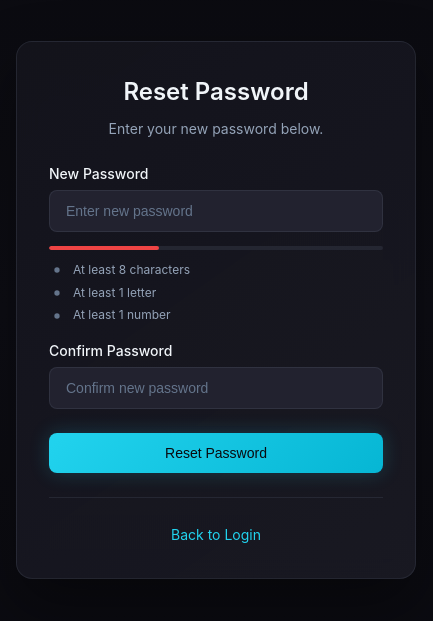
ResetPassword Page › should validate passwords must match
# Enter mismatched passwords
Type "ValidPassword123" into the password field with test id "new-password-input". click: (216, 211)
box: [49, 190, 383, 232]
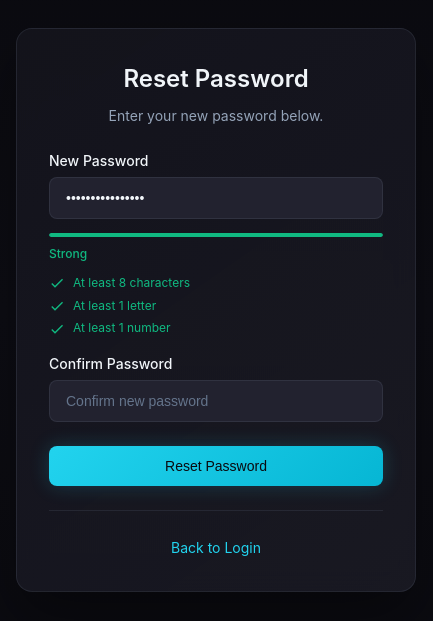
Type "DifferentPassword456" into the password field with test id "confirm-password-input". click: (216, 401)
box: [49, 380, 383, 422]
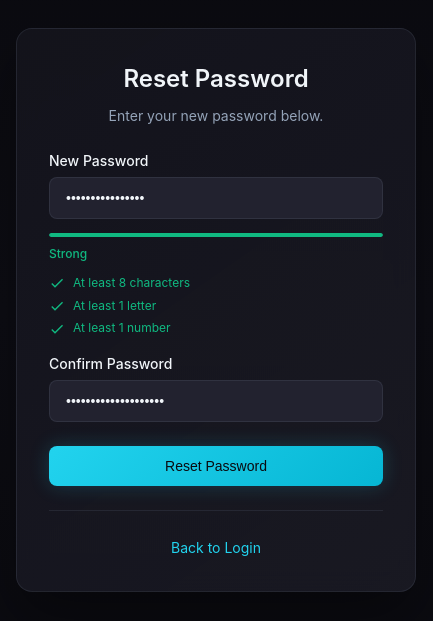
# Submit form
Click the button with test id "reset-password-submit". click: (216, 466)
box: [49, 446, 383, 486]
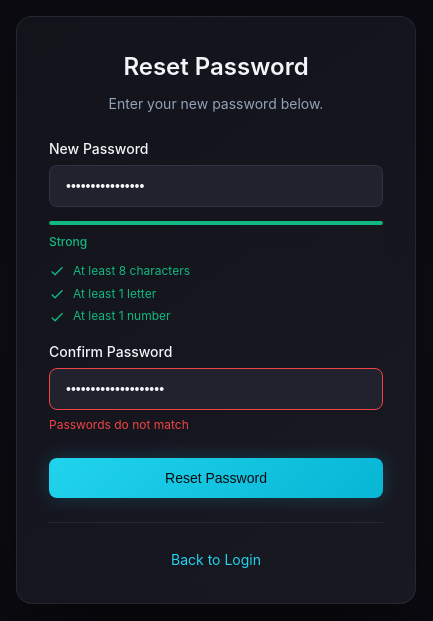
Expected: the message "Passwords do not match" is shown, [49, 417, 189, 432]
